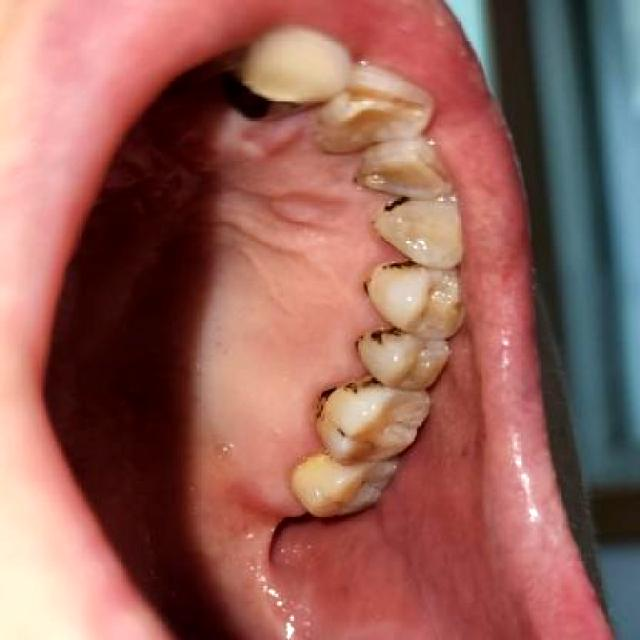Plaque: (331, 418, 390, 458), (349, 475, 381, 496)
